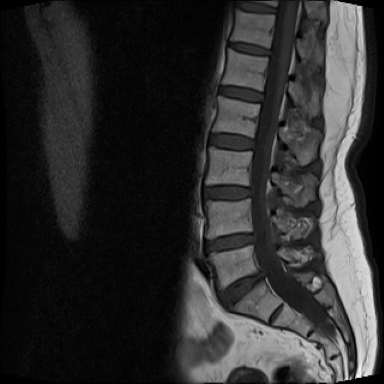Lumbar Disc Bulge (LDB): (212, 265, 272, 315), (204, 224, 261, 259), (199, 179, 262, 205)
Normal IVD: (205, 129, 258, 154), (216, 82, 268, 107), (225, 37, 276, 60), (236, 3, 280, 14)
Spinal Stenosis (SS): (244, 227, 260, 250), (244, 180, 259, 200), (256, 268, 270, 286)
